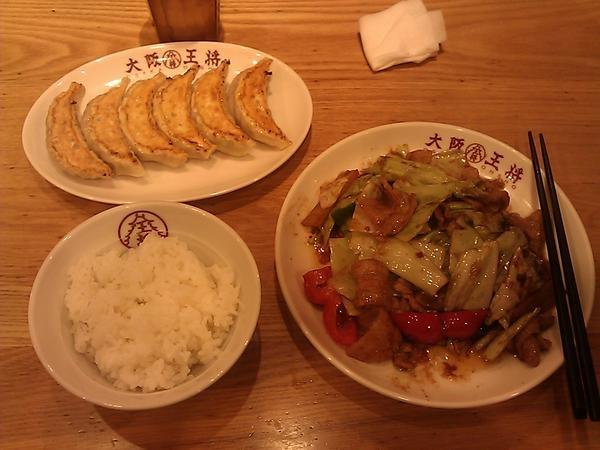rice: (65, 232, 238, 392)
